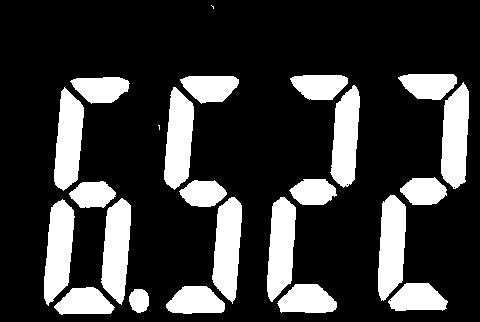2: (266, 72, 363, 317), (377, 73, 471, 313)
5: (160, 74, 245, 314)
6: (43, 77, 135, 314)
dot: (128, 289, 152, 313)
